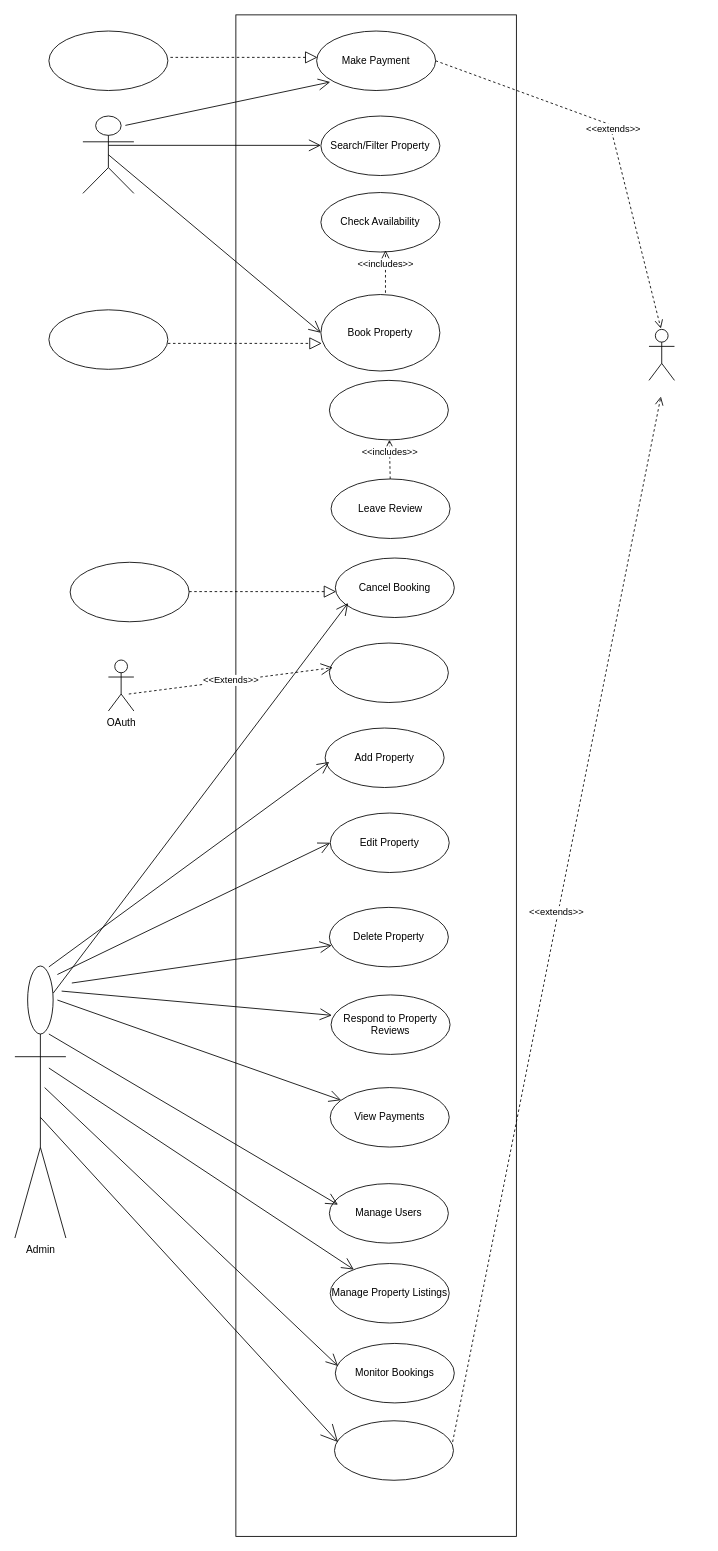
Image size: 718x1551. Some labels were removed from this diagram. Here are the shapes that lost their labels. From the top down, the centre of each, then its label:
At point 108,60: "Payment Receipt".
At point 108,154: "Guest".
At point 108,339: "Booking Confirmation".
At point 661,354: "Payment Gateway".
At point 388,410: "Verify Booking".
At point 129,591: "Cancellation".
At point 388,672: "Login".
At point 393,1450: "Process Payouts".
